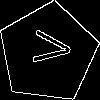V: (23, 28, 72, 67)
